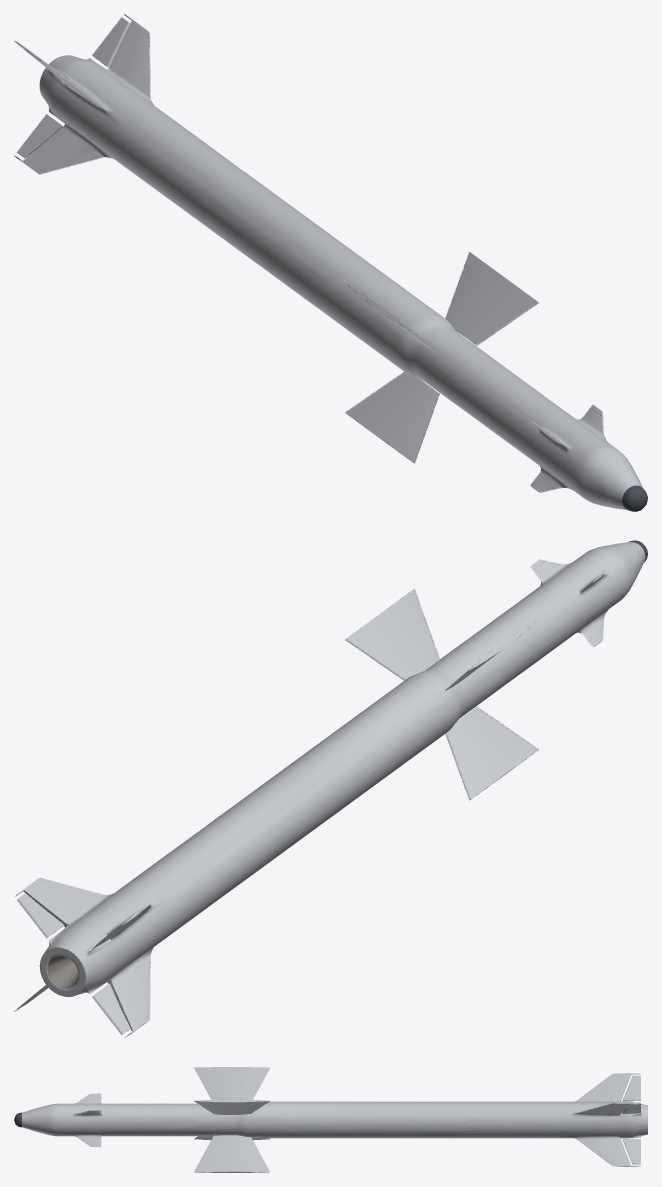
The picture shows the model from 3 angles, top to bottom: view 1: azimuth 30°, elevation 25°; view 2: azimuth 150°, elevation 25°; view 3: azimuth 270°, elevation 25°; orthographic projection. The views are drawn at different scales.
Visible parts, largest first — view 1: airframe, fsim:elevator+aileron:1+rudder:1@-20,20, fsim:elevator+aileron:-1+rudder:1@-20,20, fsim:aileron (×2); view 2: airframe, fsim:elevator+aileron:-1+rudder:1@-20,20, fsim:elevator+aileron:1+rudder:1@-20,20, fsim:aileron (×2); view 3: airframe, fsim:elevator+aileron:1+rudder:-1@-20,20, fsim:elevator+aileron:-1+rudder:-1@-20,20, fsim:elevator+aileron:1+rudder:1@-20,20, fsim:aileron (×2).
Part boxes in pixels (x1,y1,x2,y2): airframe: (14, 14, 647, 511); fsim:elevator+aileron:1+rudder:1@-20,20: (445, 252, 538, 345); fsim:elevator+aileron:-1+rudder:1@-20,20: (345, 372, 439, 463); fsim:aileron (×2): (16, 17, 129, 158); airframe: (14, 540, 647, 1038); fsim:elevator+aileron:-1+rudder:1@-20,20: (445, 706, 538, 800); fsim:elevator+aileron:1+rudder:1@-20,20: (345, 589, 439, 680); fsim:aileron (×2): (17, 894, 129, 1034); airframe: (14, 1073, 647, 1166); fsim:elevator+aileron:1+rudder:-1@-20,20: (194, 1135, 269, 1172); fsim:elevator+aileron:-1+rudder:-1@-20,20: (194, 1067, 269, 1099); fsim:elevator+aileron:1+rudder:1@-20,20: (194, 1099, 269, 1114); fsim:aileron (×2): (622, 1075, 640, 1164).
Size of the model in its own units: 0.5759 by 0.5753 by 4.49.
Materials: 4 (1 with a texture image).
